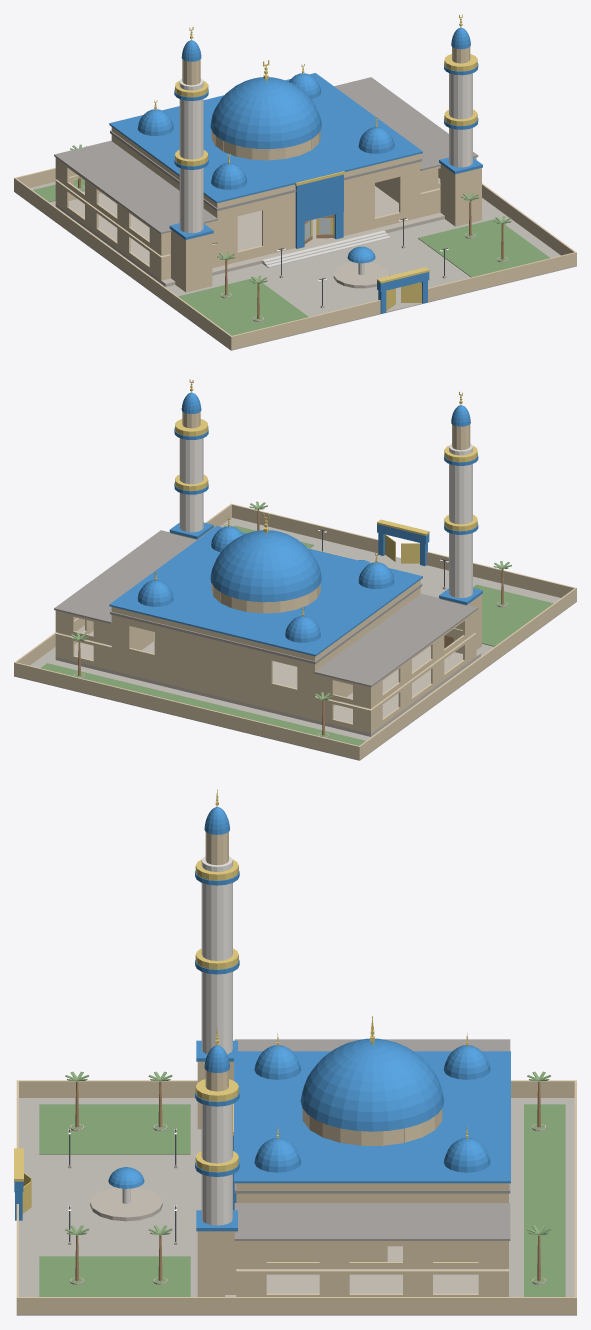
Rendered from SM_Grande_Mosquee.fbx.
3 views of the same model, one above another, from view 1: azimuth 30°, elevation 25°; view 2: azimuth 150°, elevation 25°; view 3: azimuth 270°, elevation 25° (orthographic). The views are drawn at different scales.
Visible parts, largest first — view 1: Mosq_Ext_Site, Mosq_Ext_Roof, Mosq_Ext_Details, Mosq_Ext_Walls; view 2: Mosq_Ext_Roof, Mosq_Ext_Site, Mosq_Ext_Walls, Mosq_Ext_Details; view 3: Mosq_Ext_Site, Mosq_Ext_Roof, Mosq_Ext_Details, Mosq_Ext_Walls.
Part boxes in pixels (x1,y1,x2,y2): Mosq_Ext_Site: (14,168,576,350); Mosq_Ext_Roof: (54,60,478,234); Mosq_Ext_Details: (70,14,511,321); Mosq_Ext_Walls: (55,135,476,280); Mosq_Ext_Roof: (54,513,478,687); Mosq_Ext_Site: (14,503,576,760); Mosq_Ext_Walls: (55,587,476,733); Mosq_Ext_Details: (70,379,511,737); Mosq_Ext_Site: (16,1080,576,1315); Mosq_Ext_Roof: (234,1016,510,1240); Mosq_Ext_Details: (14,789,550,1296); Mosq_Ext_Walls: (236,1193,508,1296).
Bounding box in the file's own units: 6800 × 4835 × 7435.
